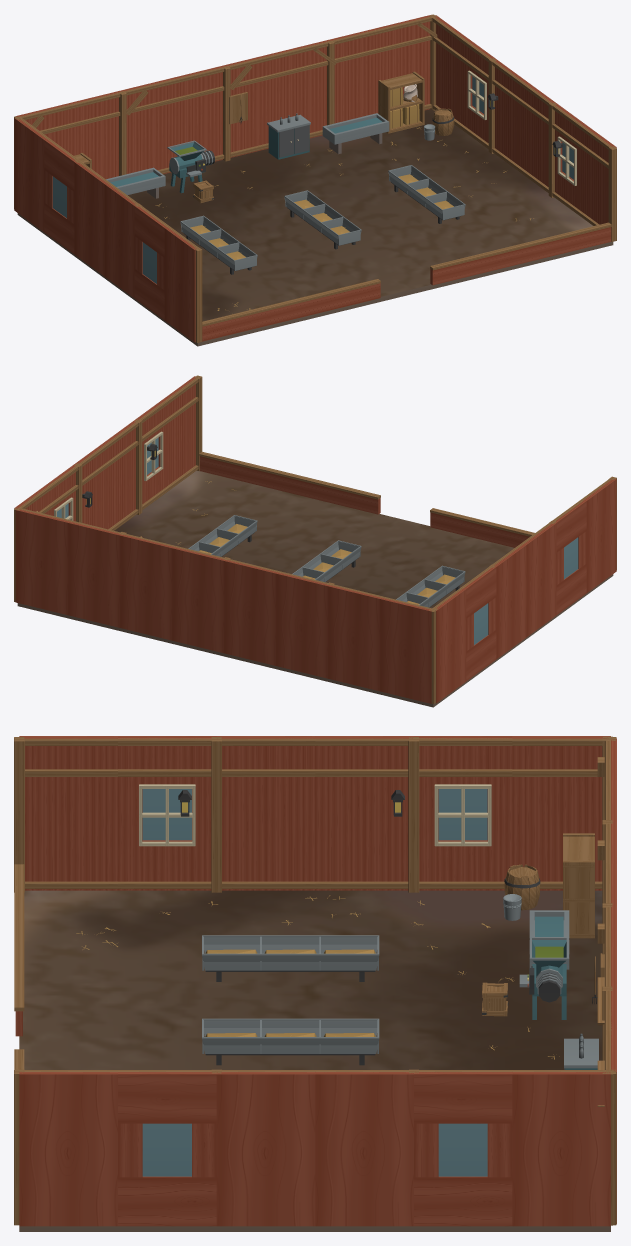
The model's file is BarnInterior_Lv2.fbx.
3 renders of one model, top to bottom at view 1: azimuth 30°, elevation 25°; view 2: azimuth 150°, elevation 25°; view 3: azimuth 270°, elevation 25°, orthographic. The views are drawn at different scales.
Parts seen in each view (by area): view 1: Lv2_Floor.001, Lv2_FrontCutaway.001, N01_Wall_2m.073, N01_Wall_2m.077, N01_Wall_2m.074, N01_Wall_2m.076, N01_Wall_2m.075, N01_Wall_2m.072, N01_Wall_2m.079, N01_WindowWall_2m.019, N01_Wall_2m.080, N01_Wall_2m.081 (+27 smaller); view 2: Lv2_Floor.001, Lv2_FrontCutaway.001, N01_Wall_2m.072, N01_Wall_2m.073, N01_Wall_2m.075, N01_Wall_2m.077, N01_Wall_2m.074, N01_Wall_2m.071, N01_Wall_2m.076, N01_Wall_2m.078, N01_Wall_2m.081, N01_WindowWall_2m.020 (+15 smaller); view 3: Lv2_Floor.001, N01_Wall_2m.084, N01_Wall_2m.083, N01_WindowWall_2m.021, N01_WindowWall_2m.022, N01_Wall_2m.085, N01_Wall_2m.086, N01_Wall_2m.080, N01_Wall_2m.079, N01_WindowWall_2m.020, N01_Wall_2m.081, N01_WindowWall_2m.019 (+14 smaller).
Part boxes in pixels (left/top/right/bottom): Lv2_Floor.001: left=17, top=109, right=613, bottom=346; Lv2_FrontCutaway.001: left=202, top=222, right=611, bottom=341; N01_Wall_2m.073: left=120, top=78, right=174, bottom=174; N01_Wall_2m.077: left=328, top=27, right=382, bottom=123; N01_Wall_2m.074: left=172, top=65, right=224, bottom=161; N01_Wall_2m.076: left=276, top=40, right=328, bottom=138; N01_Wall_2m.075: left=224, top=53, right=278, bottom=157; N01_Wall_2m.072: left=68, top=90, right=120, bottom=179; N01_Wall_2m.079: left=164, top=226, right=198, bottom=342; N01_WindowWall_2m.019: left=134, top=205, right=169, bottom=320; N01_Wall_2m.080: left=104, top=183, right=138, bottom=298; N01_Wall_2m.081: left=74, top=162, right=109, bottom=276; Lv2_Floor.001: left=17, top=470, right=613, bottom=707; Lv2_FrontCutaway.001: left=199, top=451, right=534, bottom=547; N01_Wall_2m.072: left=327, top=584, right=382, bottom=691; N01_Wall_2m.073: left=275, top=571, right=329, bottom=678; N01_Wall_2m.075: left=171, top=546, right=224, bottom=652; N01_Wall_2m.077: left=67, top=520, right=120, bottom=627; N01_Wall_2m.074: left=223, top=559, right=278, bottom=665; N01_Wall_2m.071: left=379, top=596, right=431, bottom=703; N01_Wall_2m.076: left=119, top=533, right=174, bottom=640; N01_Wall_2m.078: left=15, top=508, right=70, bottom=614; N01_Wall_2m.081: left=492, top=544, right=526, bottom=659; N01_WindowWall_2m.020: left=461, top=566, right=496, bottom=681; Lv2_Floor.001: left=19, top=890, right=610, bottom=1231; N01_Wall_2m.084: left=216, top=1070, right=315, bottom=1226; N01_Wall_2m.083: left=19, top=1070, right=117, bottom=1226; N01_WindowWall_2m.021: left=118, top=1070, right=216, bottom=1226; N01_WindowWall_2m.022: left=414, top=1070, right=512, bottom=1226; N01_Wall_2m.085: left=315, top=1070, right=413, bottom=1226; N01_Wall_2m.086: left=512, top=1070, right=610, bottom=1226; N01_Wall_2m.080: left=216, top=736, right=315, bottom=890; N01_Wall_2m.079: left=19, top=736, right=117, bottom=890; N01_WindowWall_2m.020: left=414, top=736, right=512, bottom=890; N01_Wall_2m.081: left=315, top=736, right=413, bottom=890; N01_WindowWall_2m.019: left=118, top=736, right=216, bottom=890.
Size of the model in its own units: 16.26 by 3.58 by 12.23.
